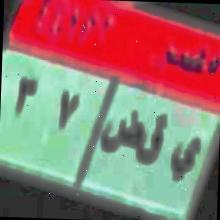3: (12, 71, 38, 121)
7: (56, 89, 82, 134)
daad: (100, 108, 144, 152)
qaaf: (139, 113, 167, 165)
yaa: (169, 134, 202, 183)
